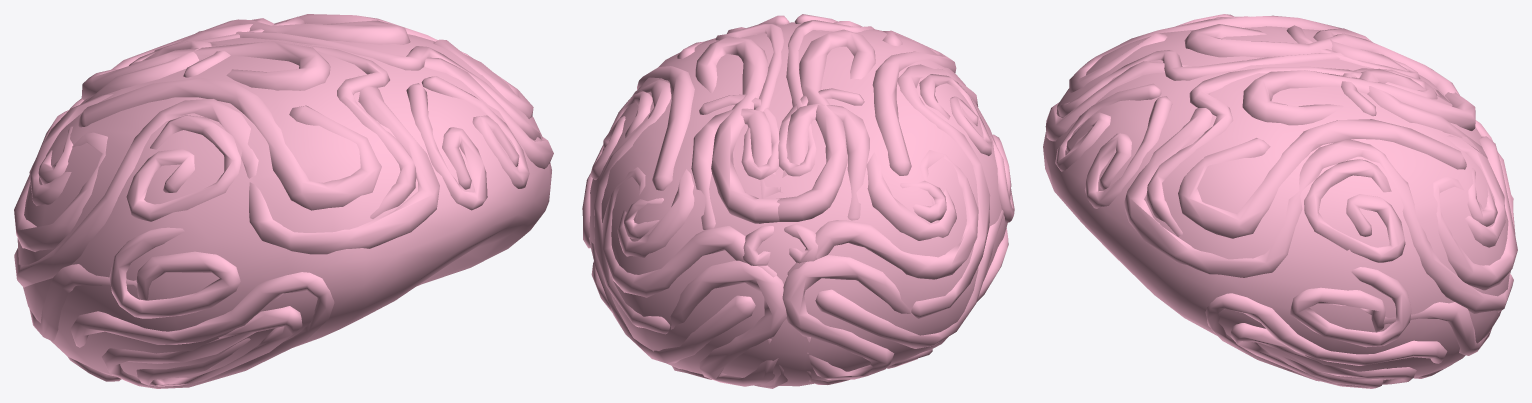
3 views of the same model, side by side, from view 1: azimuth 30°, elevation 25°; view 2: azimuth 150°, elevation 25°; view 3: azimuth 270°, elevation 25° (orthographic). The views are drawn at different scales.
Visible parts, largest first — view 1: s.0820, s.0806; view 2: s.0820, s.0806; view 3: s.0820, s.0806.
Boxes of the visible parts, x1,y1,x2,y2 form: s.0820: (14,14,553,388); s.0806: (17,23,551,377); s.0820: (582,14,1014,388); s.0806: (589,22,1007,386); s.0820: (1045,14,1517,388); s.0806: (1043,26,1509,379).
Bounding box in the file's own units: 45.97 × 33.04 × 45.01.
